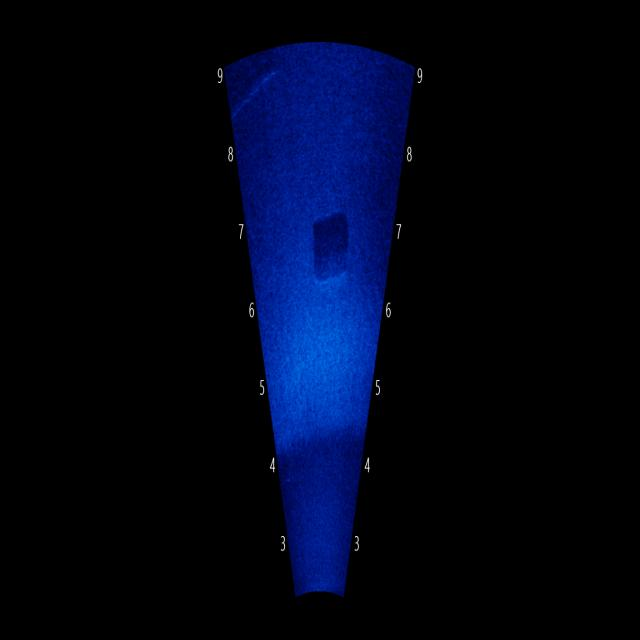square: (314, 239, 349, 288)
